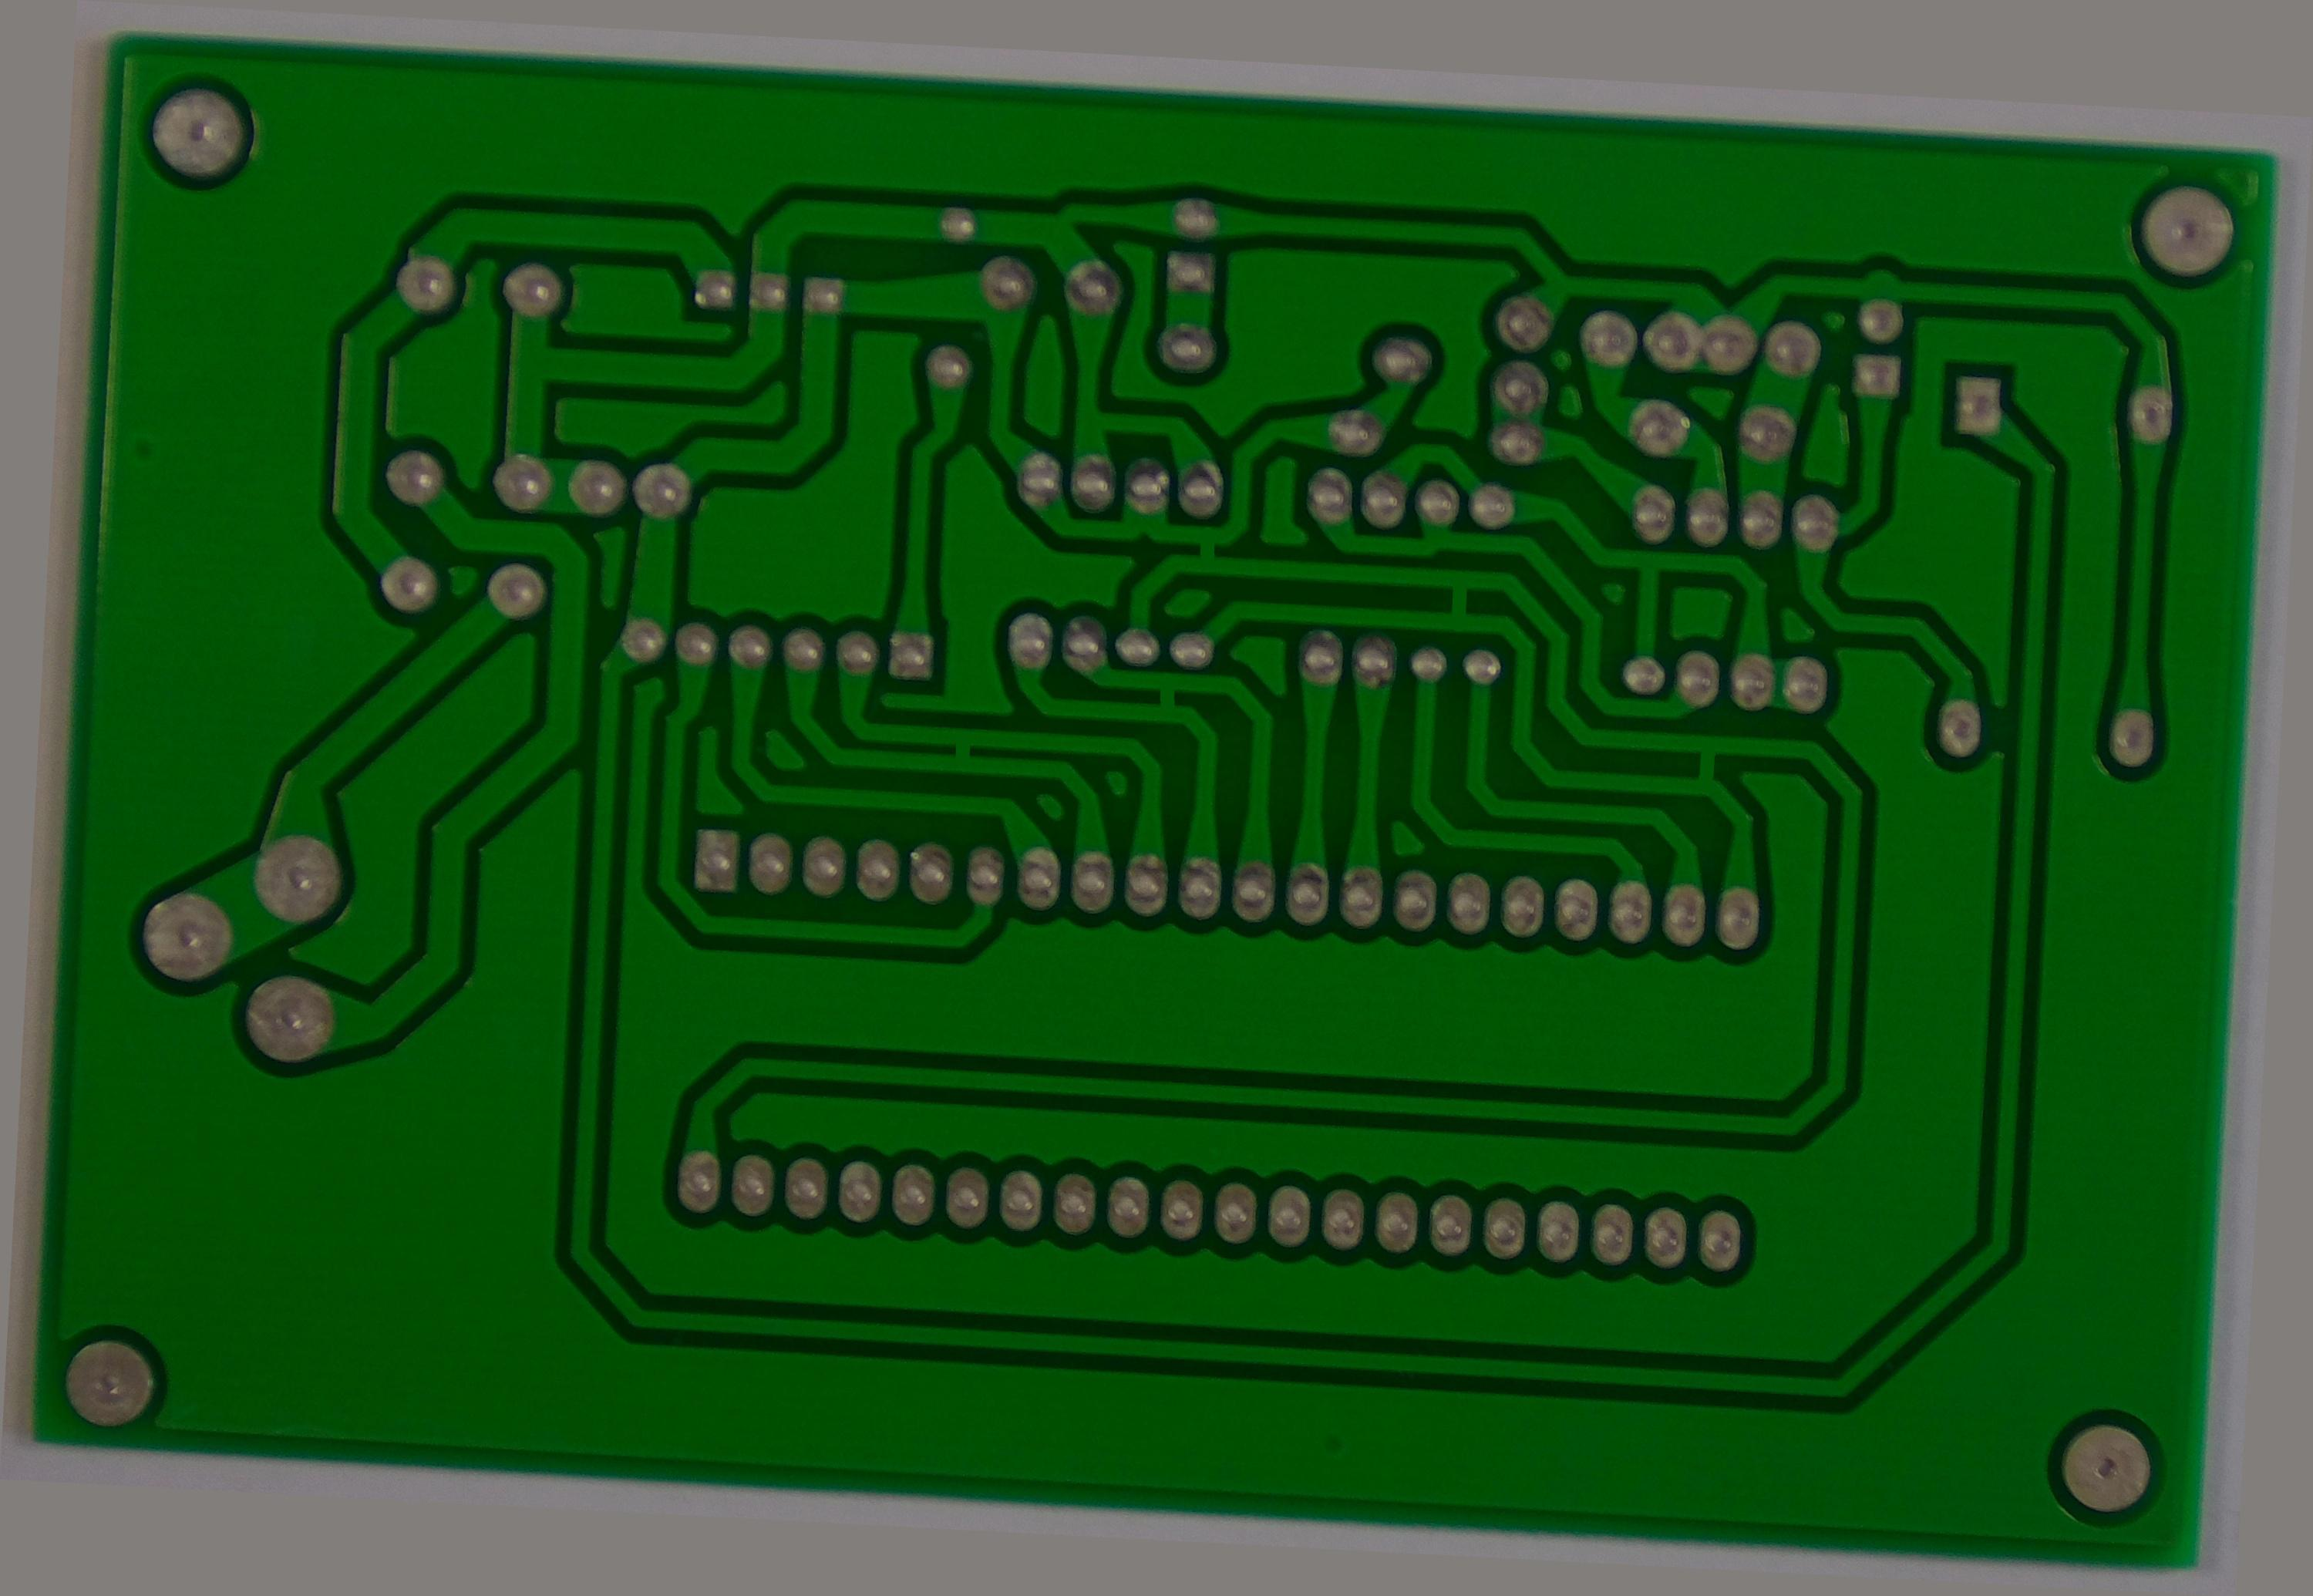short: (1666, 721, 1742, 807), (1121, 661, 1207, 728), (1427, 562, 1497, 640), (1165, 508, 1237, 582), (933, 724, 991, 780)
